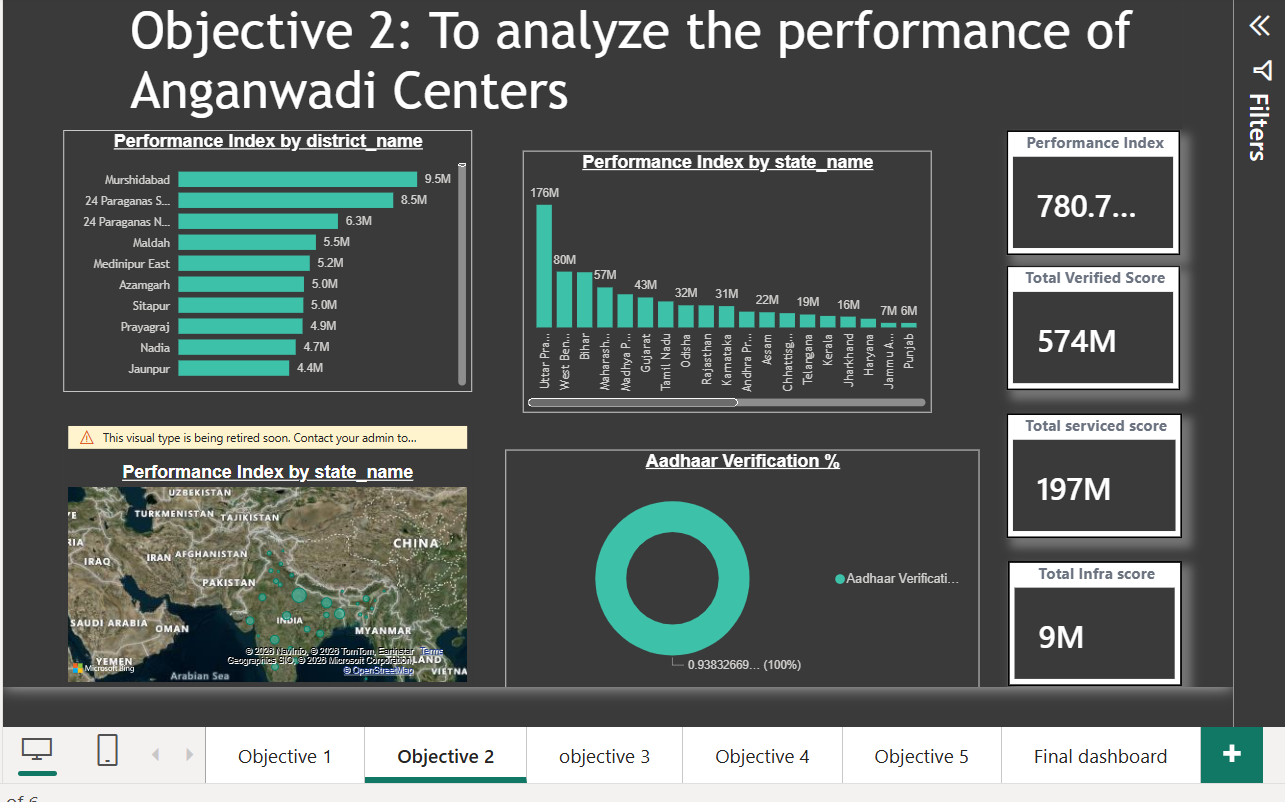

The page's visual inventory and layout, read from the dashboard file:
{"tool":"powerbi","page":{"name":"Objective 2","canvas":[1280,720],"ordinal":1},"visuals":[{"type":"cardVisual","title":"Total Infra score","fields":{"Data":["Measure table.Infra Score"]},"box":[1045,589.6,181.4,130.4],"z":0},{"type":"cardVisual","title":"Total serviced score","fields":{"Data":["Measure table.Service Score"]},"box":[1043.2,434.6,183.3,130.4],"z":1000},{"type":"cardVisual","title":"Total Verified Score","fields":{"Data":["Measure table.Verification Score"]},"box":[1043.2,281.6,181.4,130.4],"z":2000},{"type":"cardVisual","title":"Performance Index","fields":{"Data":["Measure table.Performance Index"]},"box":[1043.2,139.8,181.4,130.4],"z":3000},{"type":"clusteredColumnChart","fields":{"Category":["mapped_poshan_tracker_updated.state_name"],"Y":["Measure table.Performance Index"]},"box":[540.5,162.5,425.2,272.1],"z":4000},{"type":"barChart","fields":{"Category":["mapped_poshan_tracker_updated.district_name"],"Y":["Measure table.Performance Index"]},"box":[62.4,139.8,425.2,272.1],"z":5000},{"type":"map","fields":{"Category":["mapped_poshan_tracker_updated.state_name"],"Size":["Measure table.Performance Index"]},"box":[10,412,425,272],"z":6000},{"type":"donutChart","fields":{"Y":["Measure table.Aadhaar Verification %"]},"box":[523.5,472.4,493.2,247.6],"z":7000},{"type":"textbox","box":[126.6,0,1099.9,139.8],"z":8000}]}

Visuals, with their boxes on the page's 1280x720 design canvas (x1, y1, x2, y2). These are canvas units, not pixel positions in the 1285x802 screenshot, which may show the page scaled, cropped or inside an application window:
"Total Infra score" cardVisual: 1045 590 1226 720
"Total serviced score" cardVisual: 1043 435 1226 565
"Total Verified Score" cardVisual: 1043 282 1225 412
"Performance Index" cardVisual: 1043 140 1225 270
clusteredColumnChart - mapped_poshan_tracker_updated.state_name x Measure table.Performance Index: 540 162 966 435
barChart - mapped_poshan_tracker_updated.district_name x Measure table.Performance Index: 62 140 488 412
map - mapped_poshan_tracker_updated.state_name x Measure table.Performance Index: 10 412 435 684
donutChart - Measure table.Aadhaar Verification %: 524 472 1017 720
textbox: 127 0 1226 140
